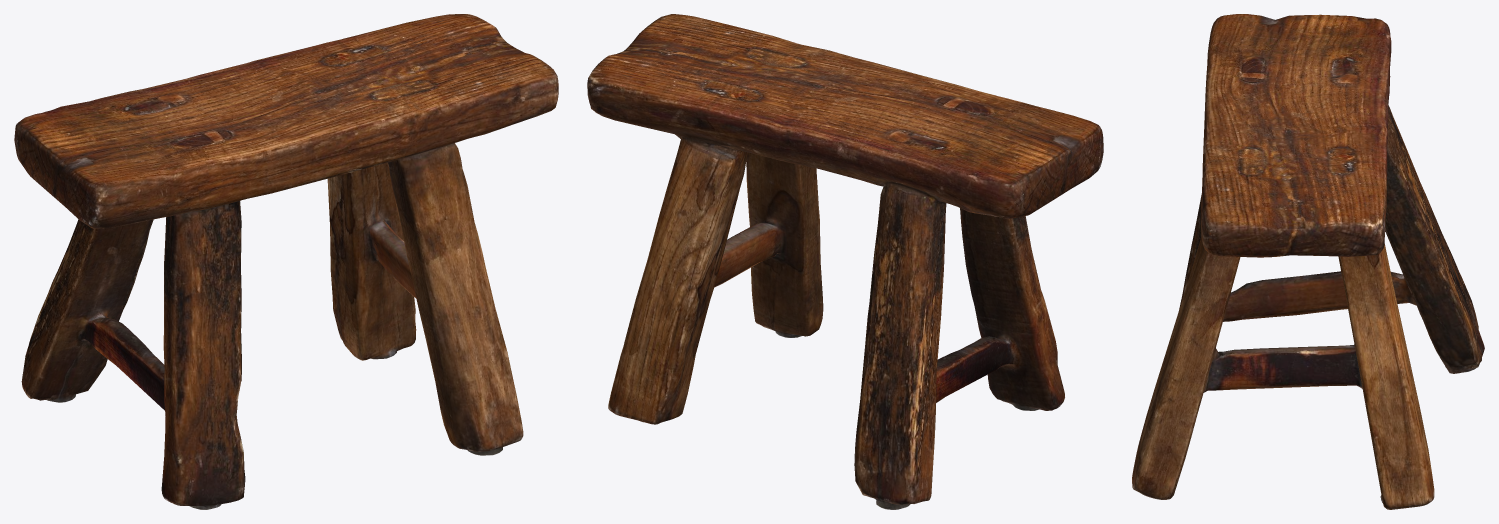
File: wooden_stool_02.glb
3 renders of one model, left to right at view 1: azimuth 30°, elevation 25°; view 2: azimuth 150°, elevation 25°; view 3: azimuth 270°, elevation 25°, orthographic. The views are drawn at different scales.
Parts seen in each view (by area): view 1: wooden_stool_02; view 2: wooden_stool_02; view 3: wooden_stool_02.
Boxes of the visible parts, bbox=[...] form: wooden_stool_02: bbox=[14, 14, 558, 509]; wooden_stool_02: bbox=[587, 14, 1103, 509]; wooden_stool_02: bbox=[1132, 14, 1484, 509].
Bounding box in the file's own units: 0.2652 × 0.1819 × 0.1831.
Materials: 1 (1 with a texture image).
